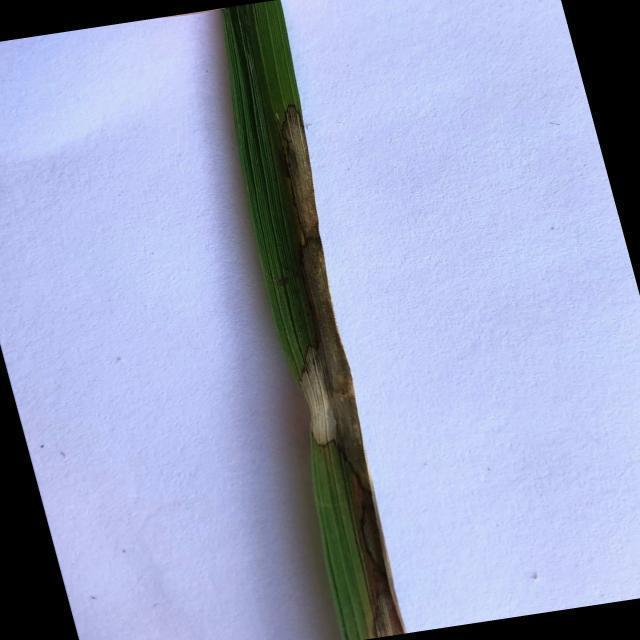Bacterial_Leaf_Blight: (300, 242, 370, 484), (283, 109, 322, 243), (299, 348, 337, 448), (355, 499, 390, 566), (368, 589, 409, 640)
